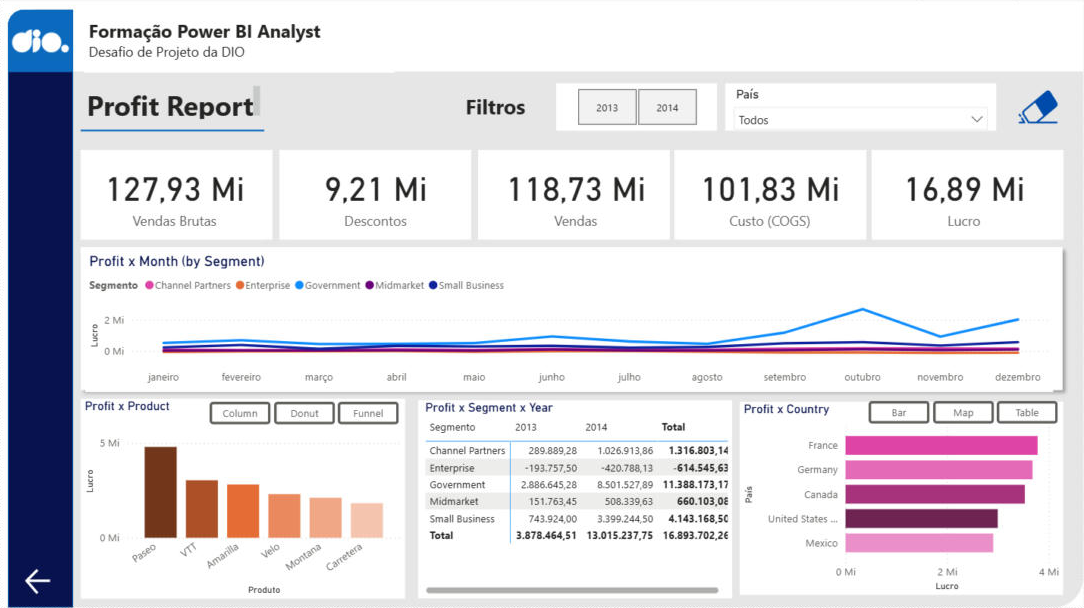

The dashboard page shown, as its layout file describes it:
{"tool":"powerbi","page":{"name":"Página 2","canvas":[1280,720],"ordinal":1},"visuals":[{"type":"shape","box":[10,12.8,1270,707],"z":0},{"type":"slicer","title":"Filtro de ano","fields":{"Values":["financials.Date.Variation.Hierarquia de datas.Ano"]},"box":[657,100,190,56],"z":0,"group":"g2"},{"type":"shape","box":[95.5,139.7,216.7,32.8],"z":0,"group":"g5"},{"type":"shape","box":[95.5,179.2,226.5,105.7],"z":0,"group":"g1"},{"type":"clusteredColumnChart","title":"Profit x Product","fields":{"Category":["financials.Product"],"Y":["Sum(financials.Profit)"]},"box":[96,472.4,382.5,236.2],"z":0,"group":"g4"},{"type":"clusteredBarChart","title":"Profit x Country","fields":{"Category":["financials.Country"],"Y":["Sum(financials.Profit)"]},"box":[873.8,476,382,228.1],"z":0,"group":"g3"},{"type":"slicer","title":"Filtro de país","fields":{"Values":["financials.Country"]},"box":[857,100,320,56],"z":500,"group":"g2"},{"type":"shape","box":[10.1,13.4,77.2,706.3],"z":1000},{"type":"textbox","box":[96.9,98.4,215.2,48.5],"z":1000,"group":"g5"},{"type":"textbox","box":[545,105.7,110,45.6],"z":1000,"group":"g2"},{"type":"shape","box":[330.2,179.2,226.5,105.7],"z":1000,"group":"g1"},{"type":"shape","box":[10.1,13.4,77.2,73.8],"z":2000},{"type":"image","title":"clean","box":[1196,100,59.9,55.6],"z":2000,"group":"g2"},{"type":"shape","box":[565.1,179.2,226.5,105.7],"z":2000,"group":"g1"},{"type":"image","title":"logo_dio","box":[10.1,18.5,77.2,62.1],"z":3000},{"type":"actionButton","title":"Limpar filtros","box":[1196,100,59.9,51.3],"z":3000,"group":"g2"},{"type":"shape","box":[796.6,179.2,226.5,105.7],"z":3000,"group":"g1"},{"type":"shape","box":[86.9,12.8,1193.1,74.1],"z":4000},{"type":"shape","box":[1029.7,179.2,226.5,105.7],"z":4000,"group":"g1"},{"type":"textbox","box":[100.7,18.5,365.7,68.8],"z":5000},{"type":"card","fields":{"Values":["Sum(financials.Gross Sales)"]},"box":[101.2,179.6,211,105.5],"z":5000,"group":"g1"},{"type":"group","id":"g1","title":"Cartões","box":[95.5,179.2,1160.7,105.9],"z":6000},{"type":"card","fields":{"Values":["Sum(financials.Discounts)"]},"box":[337.9,179.6,211,105.5],"z":6000,"group":"g1"},{"type":"card","fields":{"Values":["Sum(financials. Sales)"]},"box":[574.5,179.6,211,105.5],"z":7000,"group":"g1"},{"type":"shape","box":[86.9,285.1,1177.4,186.7],"z":7000},{"type":"card","fields":{"Values":["Sum(financials.COGS)"]},"box":[804,179.6,211,105.5],"z":8000,"group":"g1"},{"type":"shape","box":[494.6,474.7,370.6,233.8],"z":8000},{"type":"card","fields":{"Values":["Sum(financials.Profit)"]},"box":[1033.4,179.6,211,105.5],"z":9000,"group":"g1"},{"type":"lineChart","title":"Profit x Month (by Segment)","fields":{"Category":["financials.Date.Variation.Hierarquia de datas.Mês"],"Y":["Sum(financials.Profit)"],"Series":["financials.Segment"]},"box":[101.2,300,1143.2,165],"z":10000},{"type":"pivotTable","title":"Profit x Segment x Year","fields":{"Rows":["financials.Segment"],"Columns":["financials.Date.Variation.Hierarquia de datas.Ano"],"Values":["Sum(financials.Profit)"]},"box":[498.3,474.5,366.9,233.8],"z":11000},{"type":"group","id":"g2","title":"Filtros","box":[545,100,711,56],"z":12000},{"type":"group","id":"g3","title":"Profit x País","box":[873.8,475.2,382,230.3],"z":13000},{"type":"group","id":"g4","title":"Profit x Produto","box":[96,471.8,382.9,236.8],"z":14000},{"type":"group","id":"g5","title":"Title report","box":[95.5,98.4,216.7,74.1],"z":15000},{"type":"actionButton","title":"Voltar para a página 1","box":[25.9,669,48.8,39.6],"z":16000},{"type":"actionButton","title":"Botão - colunas","box":[248,476.4,72,26.6],"z":17000,"group":"g4"},{"type":"actionButton","title":"Botão - rosca","box":[324,476.4,72,26.6],"z":18000,"group":"g4"},{"type":"actionButton","title":"Botão - funil","box":[400,476.4,72,26.6],"z":19000,"group":"g4"},{"type":"actionButton","title":"Botão - barras","box":[1025.8,475.2,72,26.6],"z":20000,"group":"g3"},{"type":"actionButton","title":"Botão - mapa","box":[1101.8,475.2,72,26.6],"z":21000,"group":"g3"},{"type":"actionButton","title":"Botão - tabela","box":[1177.8,475.2,72,26.6],"z":22000,"group":"g3"}]}

Visuals, with their boxes on the page's 1280x720 design canvas (x1, y1, x2, y2). These are canvas units, not pixel positions in the 1084x608 screenshot, which may show the page scaled, cropped or inside an application window:
shape: locate(10, 13, 1280, 720)
"Filtro de ano" slicer: locate(657, 100, 847, 156)
shape: locate(96, 140, 312, 172)
shape: locate(96, 179, 322, 285)
"Profit x Product" clusteredColumnChart: locate(96, 472, 478, 709)
"Profit x Country" clusteredBarChart: locate(874, 476, 1256, 704)
"Filtro de país" slicer: locate(857, 100, 1177, 156)
shape: locate(10, 13, 87, 720)
textbox: locate(97, 98, 312, 147)
textbox: locate(545, 106, 655, 151)
shape: locate(330, 179, 557, 285)
shape: locate(10, 13, 87, 87)
"clean" image: locate(1196, 100, 1256, 156)
shape: locate(565, 179, 792, 285)
"logo_dio" image: locate(10, 18, 87, 81)
"Limpar filtros" actionButton: locate(1196, 100, 1256, 151)
shape: locate(797, 179, 1023, 285)
shape: locate(87, 13, 1280, 87)
shape: locate(1030, 179, 1256, 285)
textbox: locate(101, 18, 466, 87)
card - Sum(financials.Gross Sales): locate(101, 180, 312, 285)
"Cartões" group: locate(96, 179, 1256, 285)
card - Sum(financials.Discounts): locate(338, 180, 549, 285)
card - Sum(financials. Sales): locate(574, 180, 786, 285)
shape: locate(87, 285, 1264, 472)
card - Sum(financials.COGS): locate(804, 180, 1015, 285)
shape: locate(495, 475, 865, 708)
card - Sum(financials.Profit): locate(1033, 180, 1244, 285)
"Profit x Month (by Segment)" lineChart: locate(101, 300, 1244, 465)
"Profit x Segment x Year" pivotTable: locate(498, 474, 865, 708)
"Filtros" group: locate(545, 100, 1256, 156)
"Profit x País" group: locate(874, 475, 1256, 706)
"Profit x Produto" group: locate(96, 472, 479, 709)
"Title report" group: locate(96, 98, 312, 172)
"Voltar para a página 1" actionButton: locate(26, 669, 75, 709)
"Botão - colunas" actionButton: locate(248, 476, 320, 503)
"Botão - rosca" actionButton: locate(324, 476, 396, 503)
"Botão - funil" actionButton: locate(400, 476, 472, 503)
"Botão - barras" actionButton: locate(1026, 475, 1098, 502)
"Botão - mapa" actionButton: locate(1102, 475, 1174, 502)
"Botão - tabela" actionButton: locate(1178, 475, 1250, 502)
